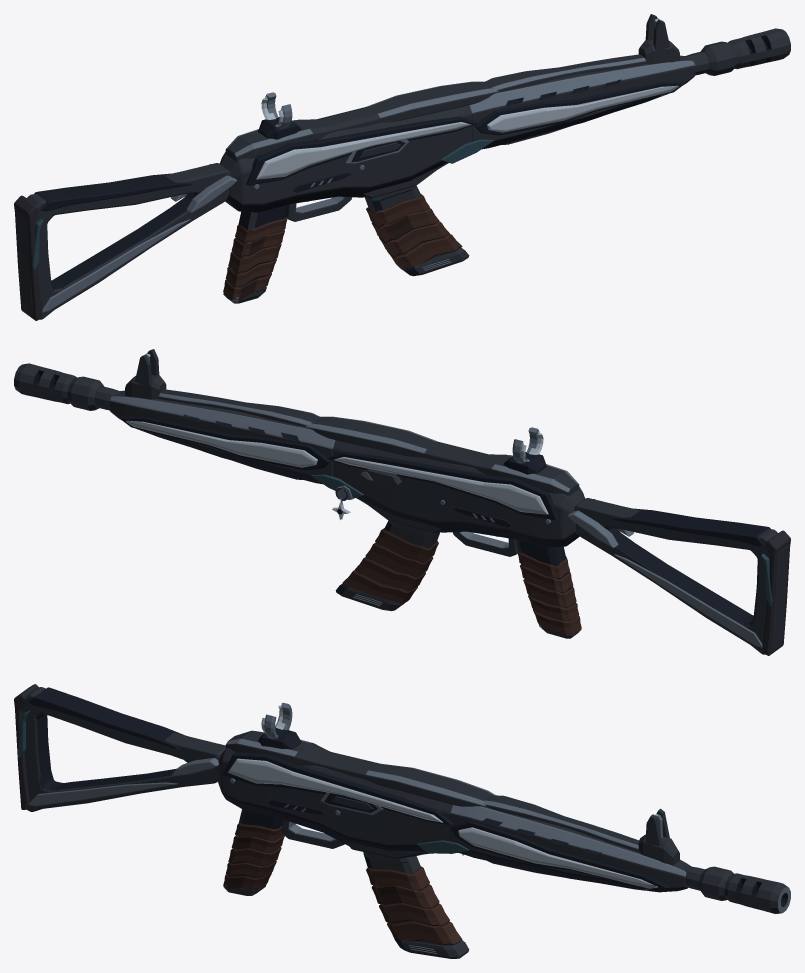
The model's file is Vandal_StormShadow_v05.glb.
3 views of the same model, one above another, from view 1: azimuth 30°, elevation 25°; view 2: azimuth 150°, elevation 25°; view 3: azimuth 330°, elevation 25° (orthographic).
Visible parts, largest first — view 1: Receiver_IndigoForging.001, Stock_ContinuousTriangularFrame.001, Shroud_OctagonalForging.001, UpperSpine_ProwBrow.001, Rear_SilverPlate_Far.001, Stock_CheekSaddle.001, Rear_DovetailBed_Far.001, Fore_SilverPlate_Far.001, Shroud_DorsalBlade.001, Fore_DovetailBed_Far.001, Muzzle_FourVentCage.001, Stock_DiagonalSpline.003 (+19 smaller); view 2: Receiver_IndigoForging.001, Stock_ContinuousTriangularFrame.001, Shroud_OctagonalForging.001, UpperSpine_ProwBrow.001, Rear_SilverPlate_Player.001, Rear_DovetailBed_Player.001, Stock_CheekSaddle.001, Fore_SilverPlate_Player.001, Shroud_DorsalBlade.001, Fore_DovetailBed_Player.001, Muzzle_FourVentCage.001, Stock_DiagonalSpline.002 (+19 smaller); view 3: Receiver_IndigoForging.001, Stock_ContinuousTriangularFrame.001, Shroud_OctagonalForging.001, UpperSpine_ProwBrow.001, Stock_CheekSaddle.001, Rear_SilverPlate_Far.001, Fore_SilverPlate_Far.001, Rear_DovetailBed_Far.001, Shroud_DorsalBlade.001, Muzzle_FourVentCage.001, Fore_DovetailBed_Far.001, Stock_DiagonalSpline.003 (+21 smaller).
Part boxes in pixels (<box>): Receiver_IndigoForging.001: <box>220,105,471,212</box>; Stock_ContinuousTriangularFrame.001: <box>16,163,230,319</box>; Shroud_OctagonalForging.001: <box>469,55,695,149</box>; UpperSpine_ProwBrow.001: <box>225,81,499,161</box>; Rear_SilverPlate_Far.001: <box>256,122,470,179</box>; Stock_CheekSaddle.001: <box>34,173,192,211</box>; Rear_DovetailBed_Far.001: <box>246,116,477,185</box>; Fore_SilverPlate_Far.001: <box>487,85,678,132</box>; Shroud_DorsalBlade.001: <box>484,54,647,91</box>; Fore_DovetailBed_Far.001: <box>474,81,685,135</box>; Muzzle_FourVentCage.001: <box>728,28,790,69</box>; Stock_DiagonalSpline.003: <box>42,219,190,312</box>; Receiver_IndigoForging.001: <box>333,440,584,547</box>; Stock_ContinuousTriangularFrame.001: <box>574,498,788,654</box>; Shroud_OctagonalForging.001: <box>109,390,335,484</box>; UpperSpine_ProwBrow.001: <box>305,416,579,496</box>; Rear_SilverPlate_Player.001: <box>334,457,548,514</box>; Rear_DovetailBed_Player.001: <box>327,451,558,520</box>; Stock_CheekSaddle.001: <box>612,508,770,546</box>; Fore_SilverPlate_Player.001: <box>126,420,317,467</box>; Shroud_DorsalBlade.001: <box>157,389,320,426</box>; Fore_DovetailBed_Player.001: <box>119,416,330,470</box>; Muzzle_FourVentCage.001: <box>14,363,76,404</box>; Stock_DiagonalSpline.002: <box>614,554,762,647</box>; Receiver_IndigoForging.001: <box>217,748,458,853</box>; Stock_ContinuousTriangularFrame.001: <box>22,687,225,811</box>; Shroud_OctagonalForging.001: <box>450,805,691,892</box>; UpperSpine_ProwBrow.001: <box>225,730,495,806</box>; Stock_CheekSaddle.001: <box>28,687,184,750</box>; Rear_SilverPlate_Far.001: <box>228,758,442,822</box>; Fore_SilverPlate_Far.001: <box>458,827,657,888</box>; Rear_DovetailBed_Far.001: <box>222,752,453,825</box>; Shroud_DorsalBlade.001: <box>484,795,639,851</box>; Muzzle_FourVentCage.001: <box>724,873,790,913</box>; Fore_DovetailBed_Far.001: <box>450,821,669,891</box>; Stock_DiagonalSpline.003: <box>28,782,177,806</box>.
Bounding box in the file's own units: 3.9 × 1 × 0.292.
